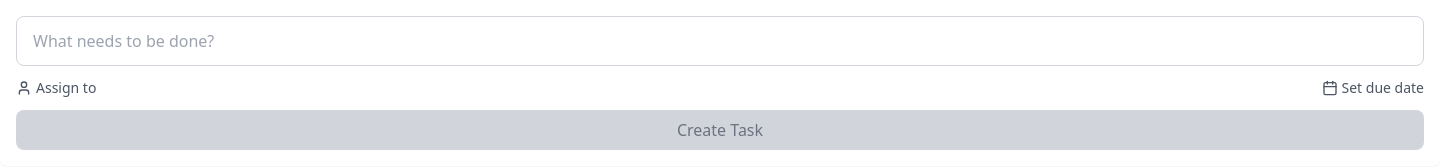
Test: TaskCreator › auto-assigns user when @mentioned in description
Type "Hey @bob can you handle this?" into the field with placeholder "What needs to be done?" at (720,41), box [16,16,1424,66]
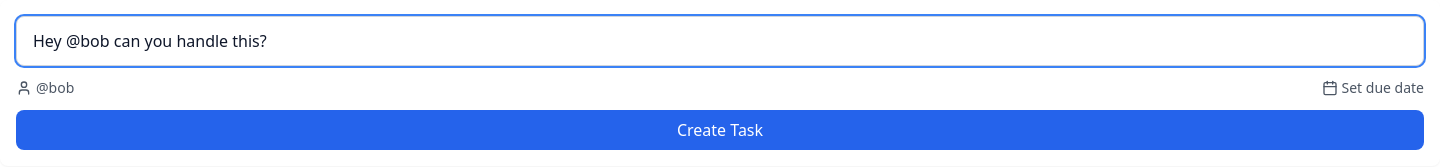
expect the button "@bob" is shown: met, box [16,78,74,98]
